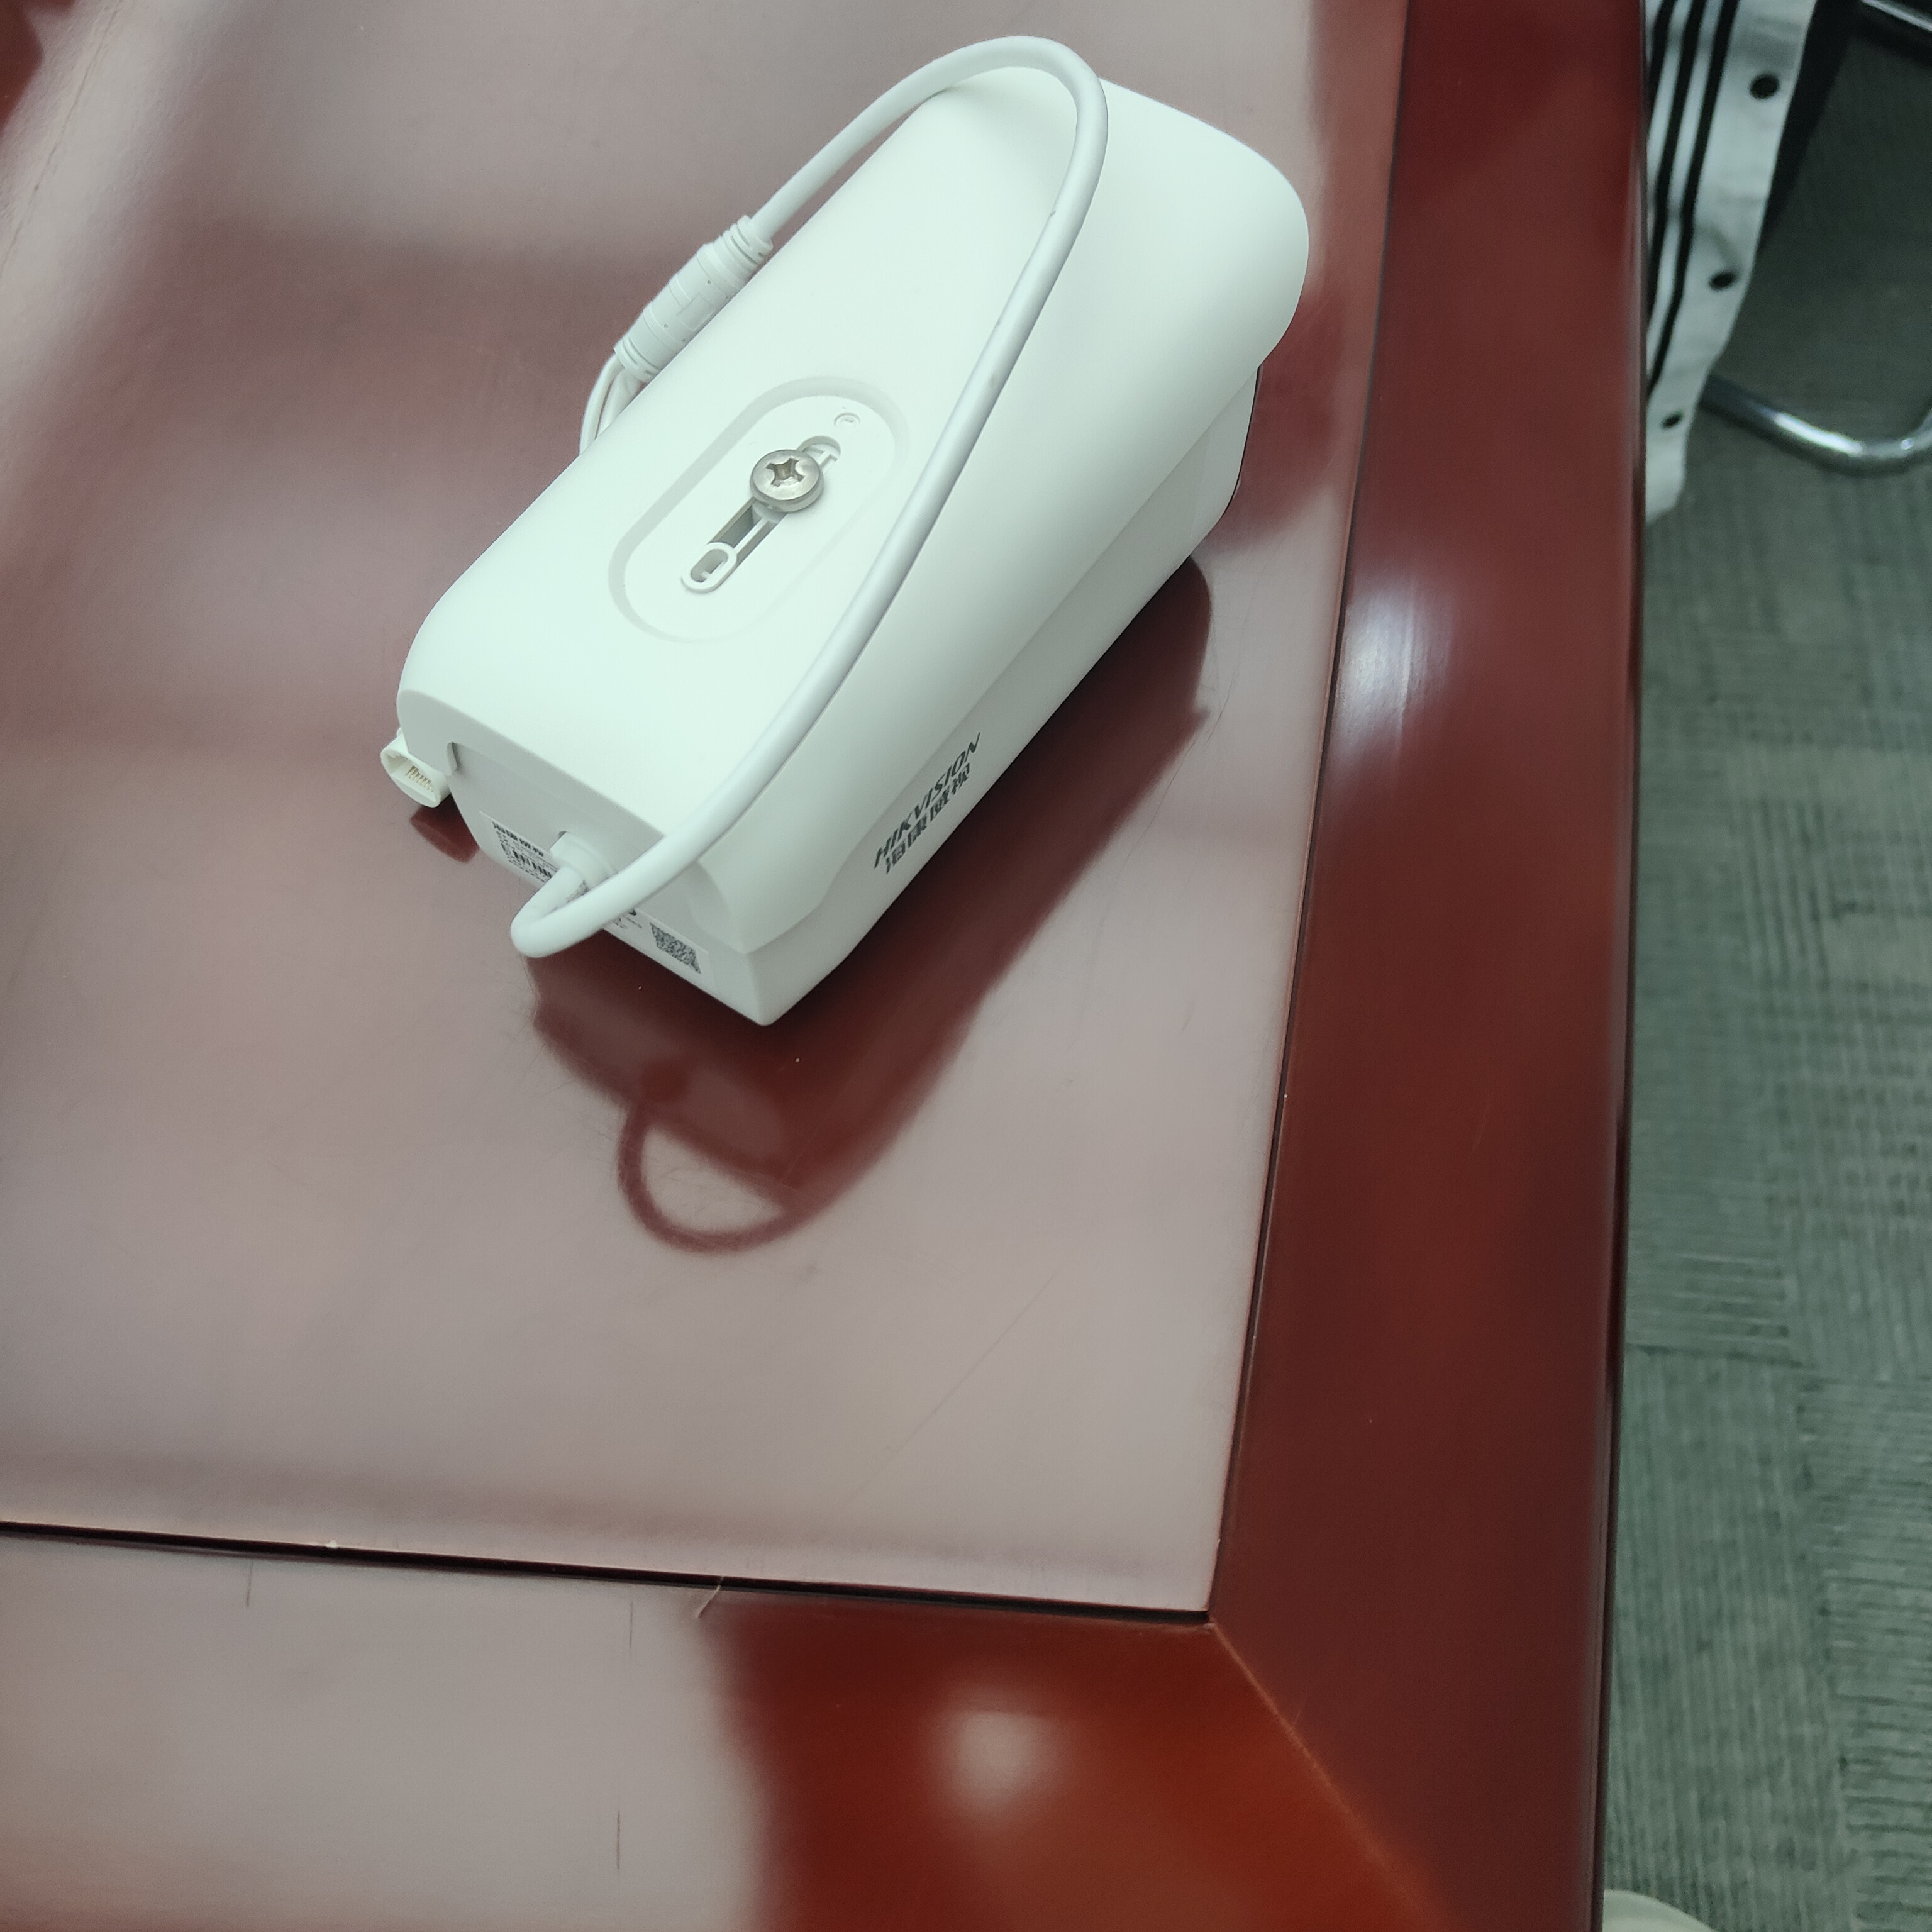hkws: (347, 80, 1339, 1023)
